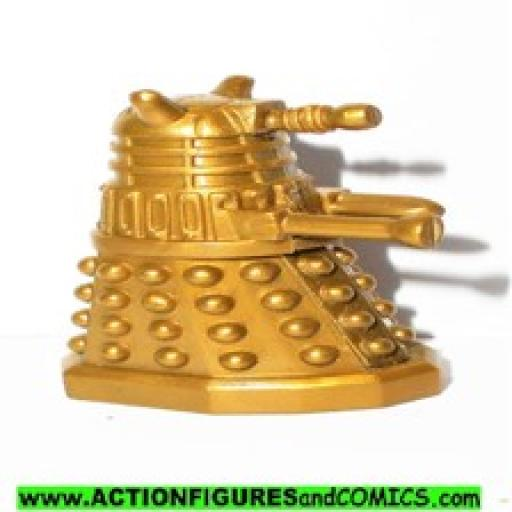dalek: (62, 73, 450, 416)
